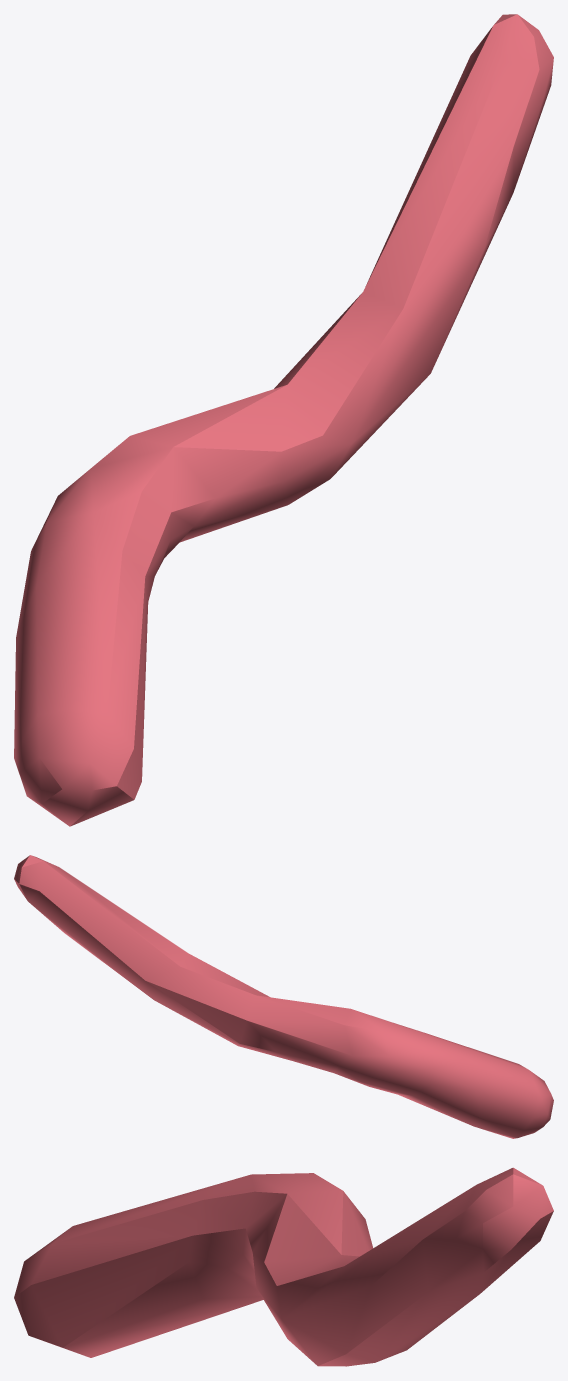
Rendered from fma3837_fj2718.glb.
The picture shows the model from 3 angles, top to bottom: view 1: azimuth 30°, elevation 25°; view 2: azimuth 150°, elevation 25°; view 3: azimuth 270°, elevation 25°; orthographic projection. The views are drawn at different scales.
Visible parts, largest first — view 1: FMA3837_FJ2718; view 2: FMA3837_FJ2718; view 3: FMA3837_FJ2718.
Part boxes in pixels (bbox=[...]): FMA3837_FJ2718: bbox=[14, 14, 553, 826]; FMA3837_FJ2718: bbox=[14, 855, 553, 1138]; FMA3837_FJ2718: bbox=[14, 1167, 553, 1366].
Size of the model in its own units: 0.0061 by 0.00396 by 0.00384.
